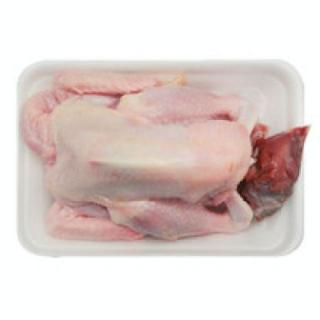Ayam: (24, 73, 309, 240)
